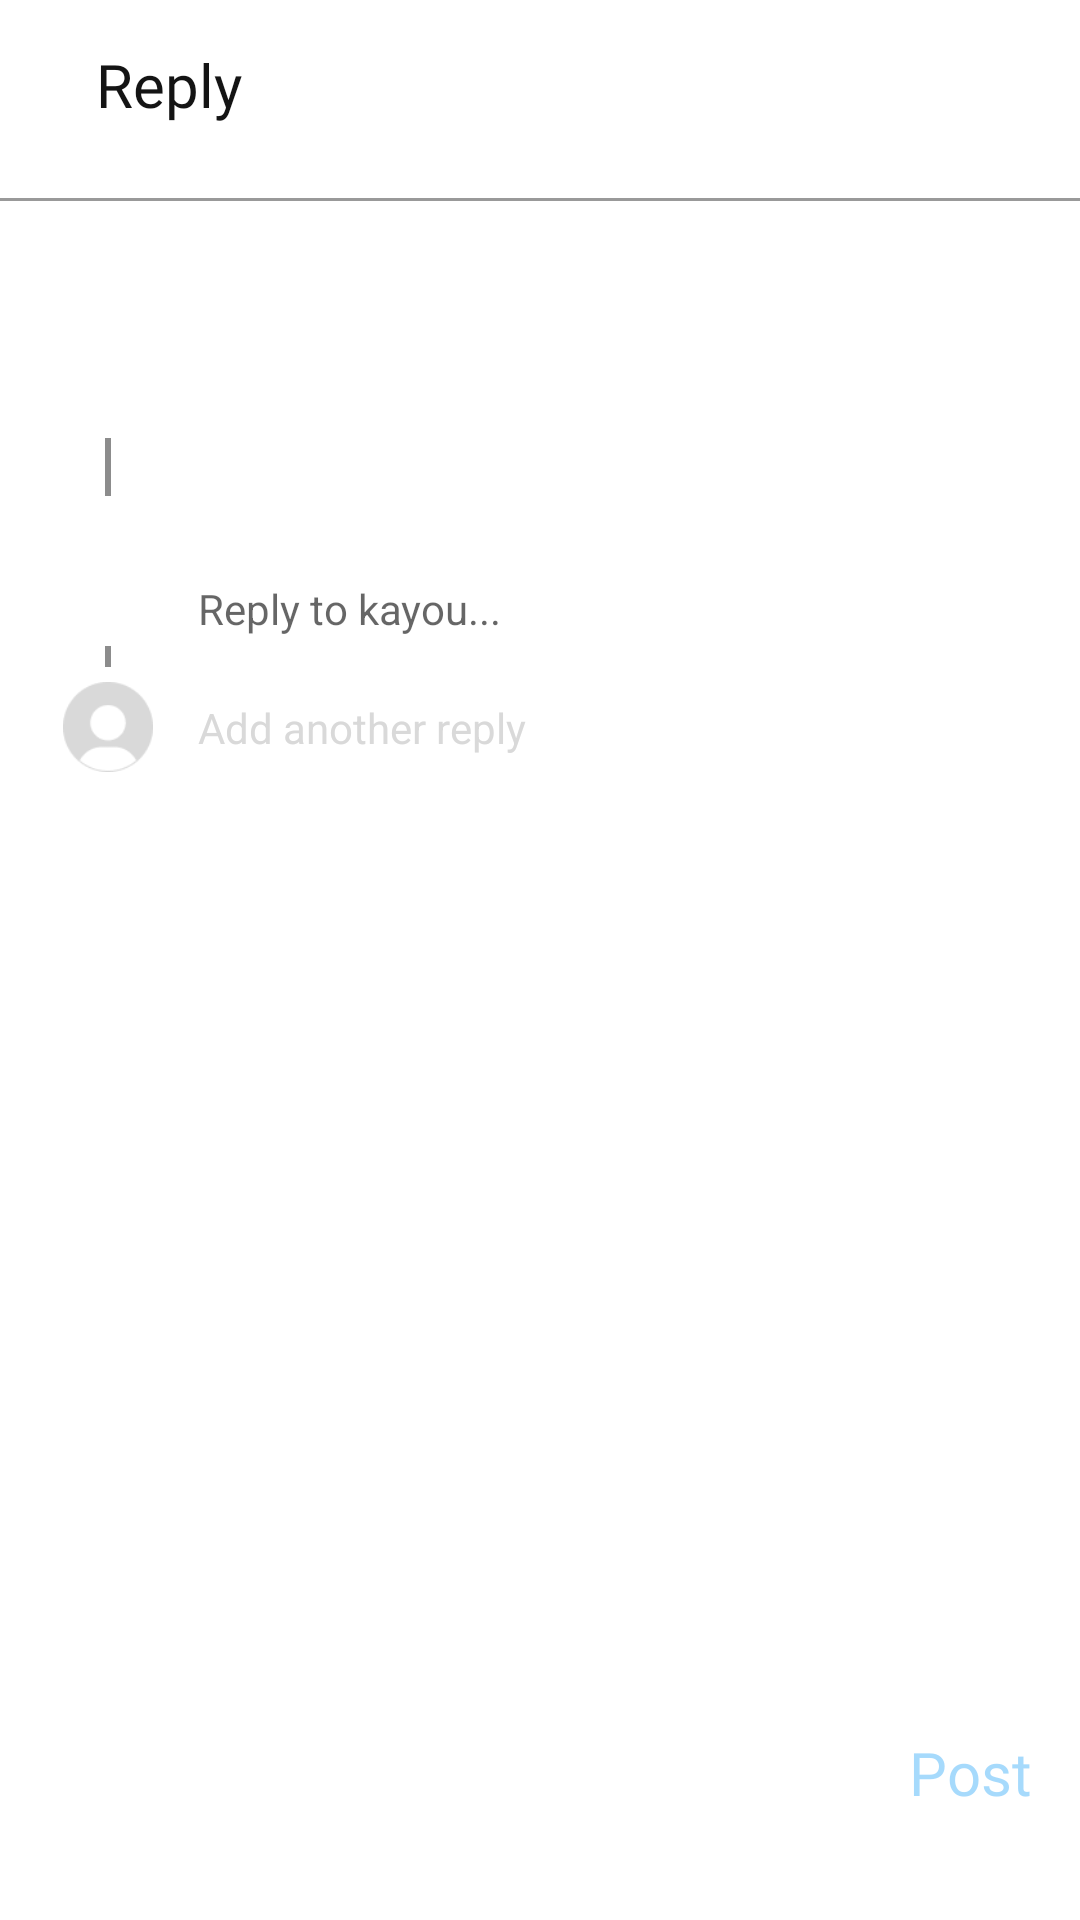

Icons on this 1080*1920 Android screen, each with the point to tap as point (x, y):
profile photo: point (108, 727)
